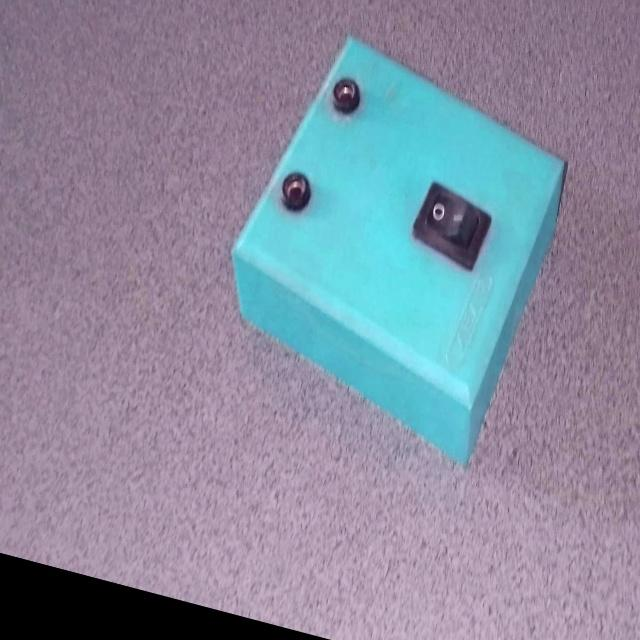ON-OFF Switch: (202, 3, 602, 515)
